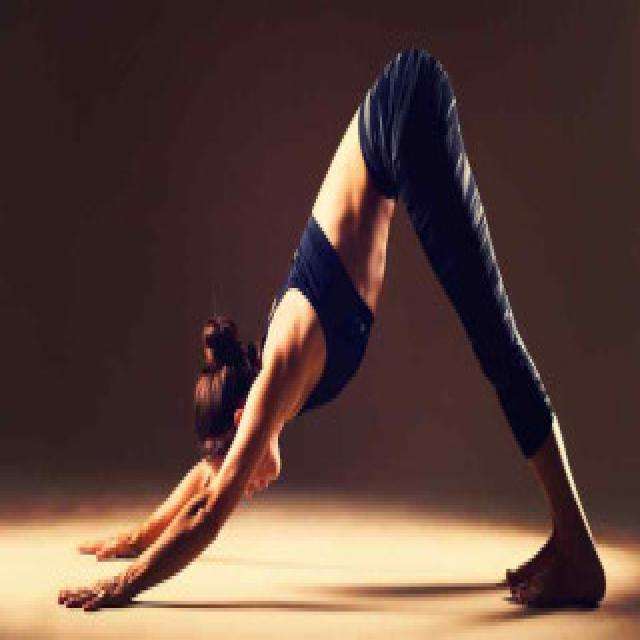yoga-pose downward: (46, 71, 611, 616)
